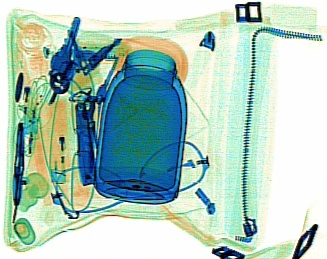lighter: (46, 102, 69, 185), (20, 51, 40, 135)
